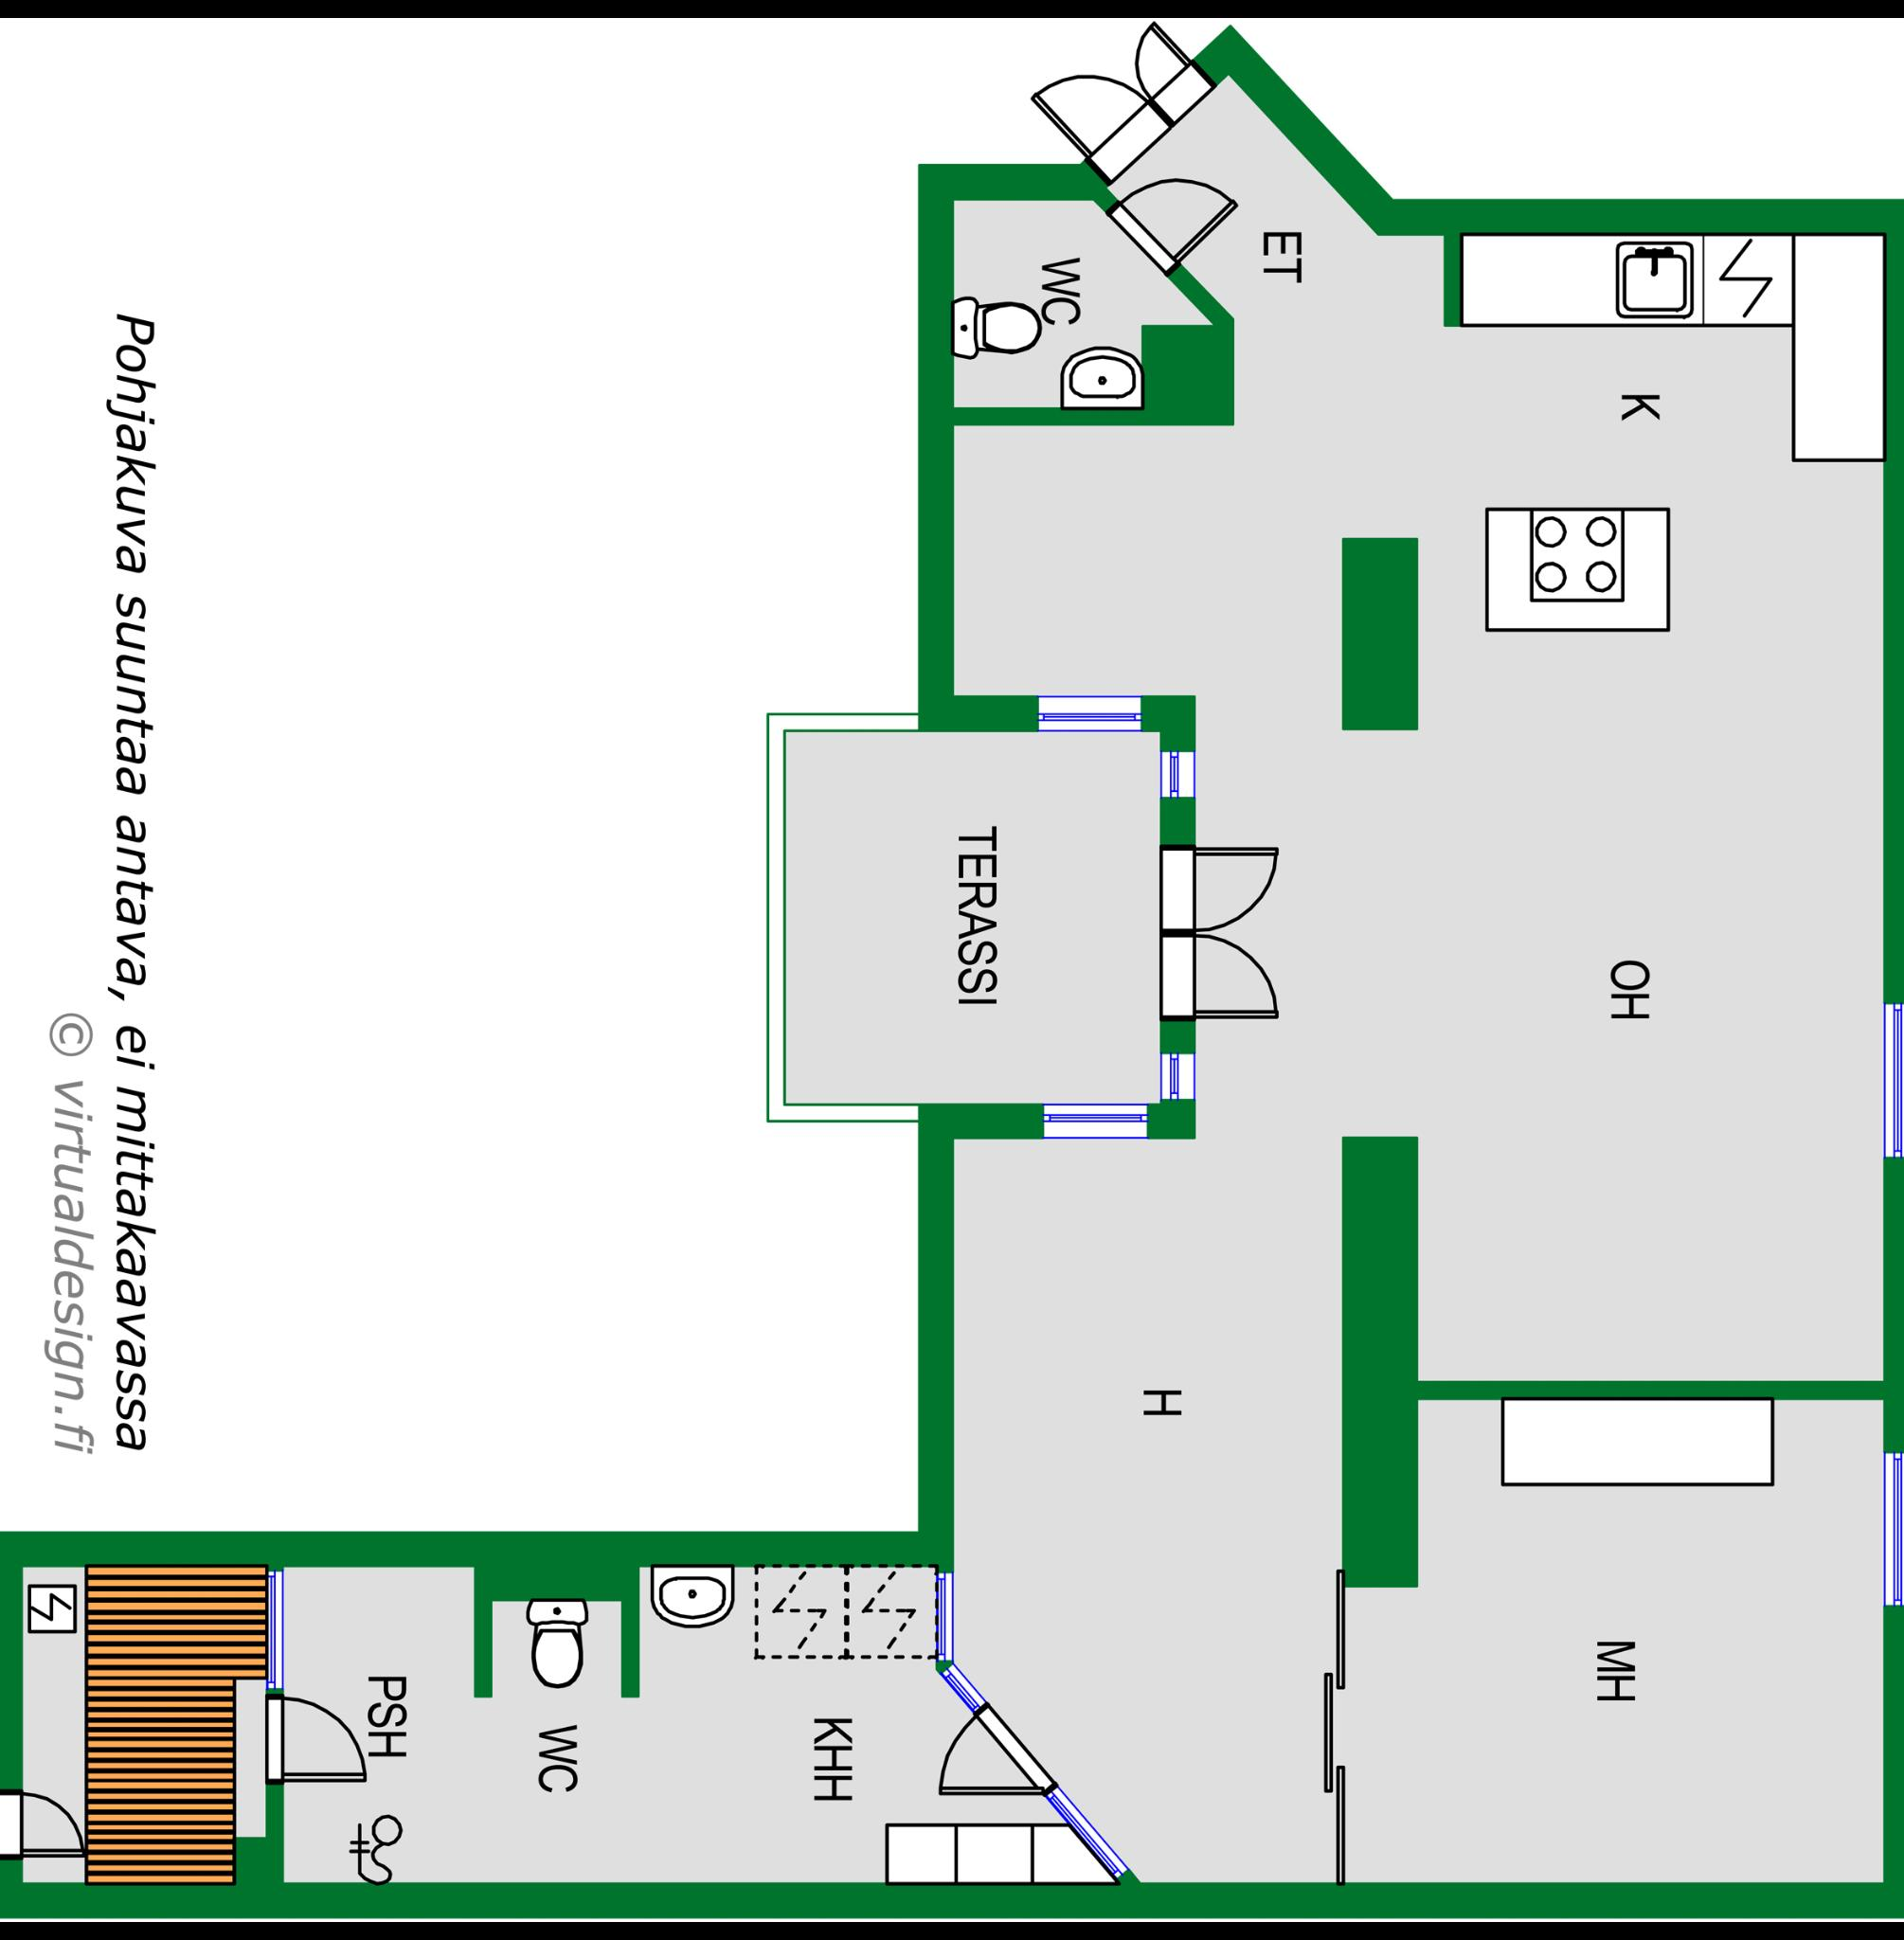bathroom: (478, 1567, 942, 1900), (947, 183, 1147, 411)
door: (1027, 71, 1177, 188), (1156, 920, 1282, 1030), (926, 1701, 1055, 1808), (1107, 173, 1238, 277), (255, 1684, 373, 1794), (1151, 833, 1282, 929), (1137, 19, 1224, 119), (9, 1780, 84, 1865)
perimeter: (0, 89, 1904, 1921)
window: (1051, 1785, 1132, 1888), (1027, 688, 1151, 746), (1023, 1096, 1156, 1149), (1867, 995, 1904, 1171), (1876, 1436, 1904, 1628), (253, 1567, 291, 1699), (919, 1558, 966, 1665), (1151, 1035, 1205, 1116), (1151, 741, 1200, 811), (938, 1654, 985, 1710)
